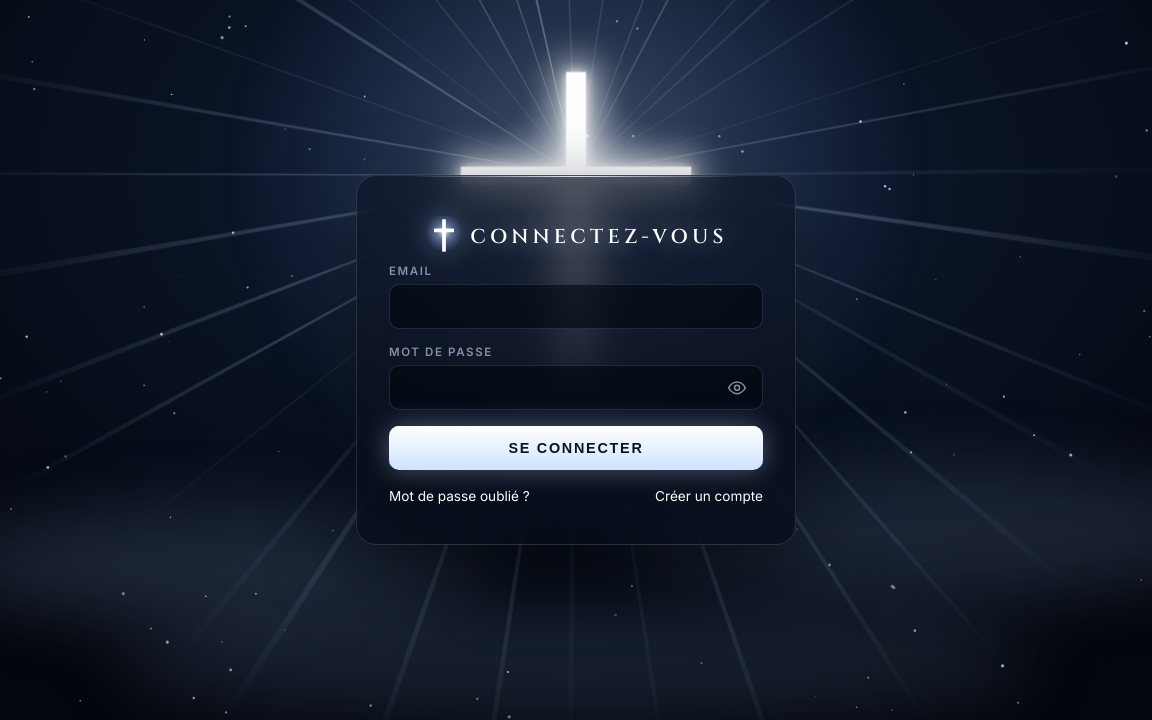
Test case: LogIn › affiche l’erreur et ne stocke rien
This screenshot has width=1152, height=720.
Type "alice@example.com" into the field labelled "Email". click: (576, 306)
box: [389, 284, 763, 329]
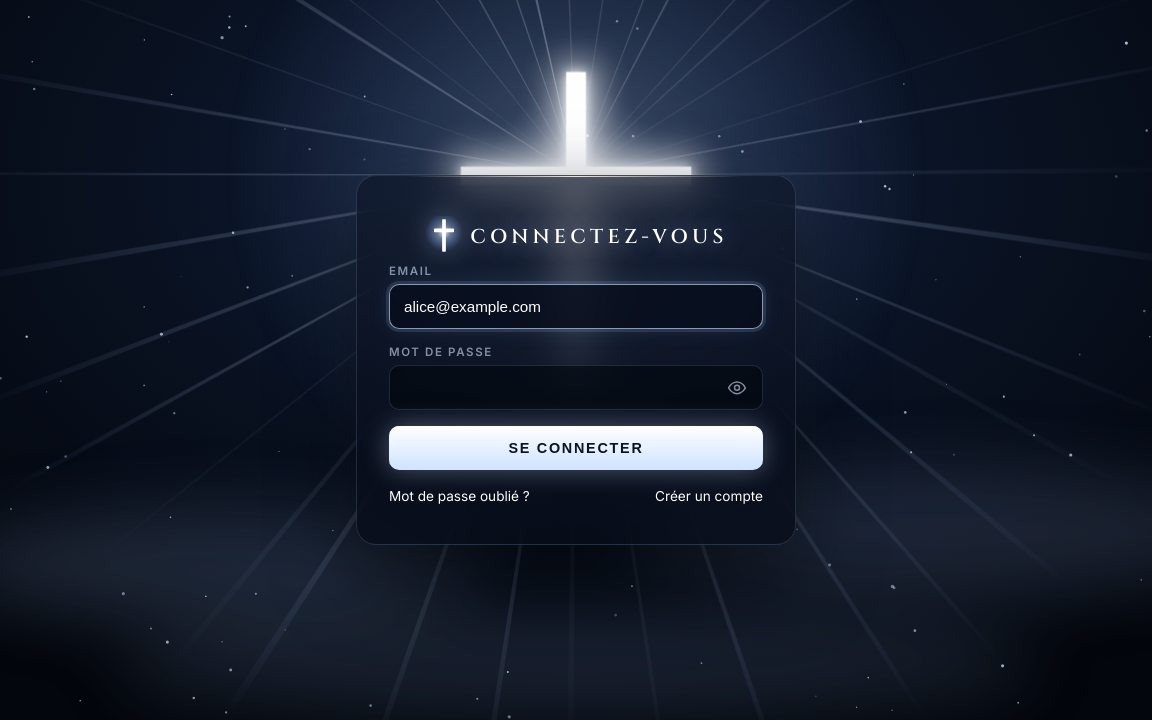
Type "MotDePasse123" into the password field labelled "Mot de passe". click: (576, 388)
box: [389, 365, 763, 410]
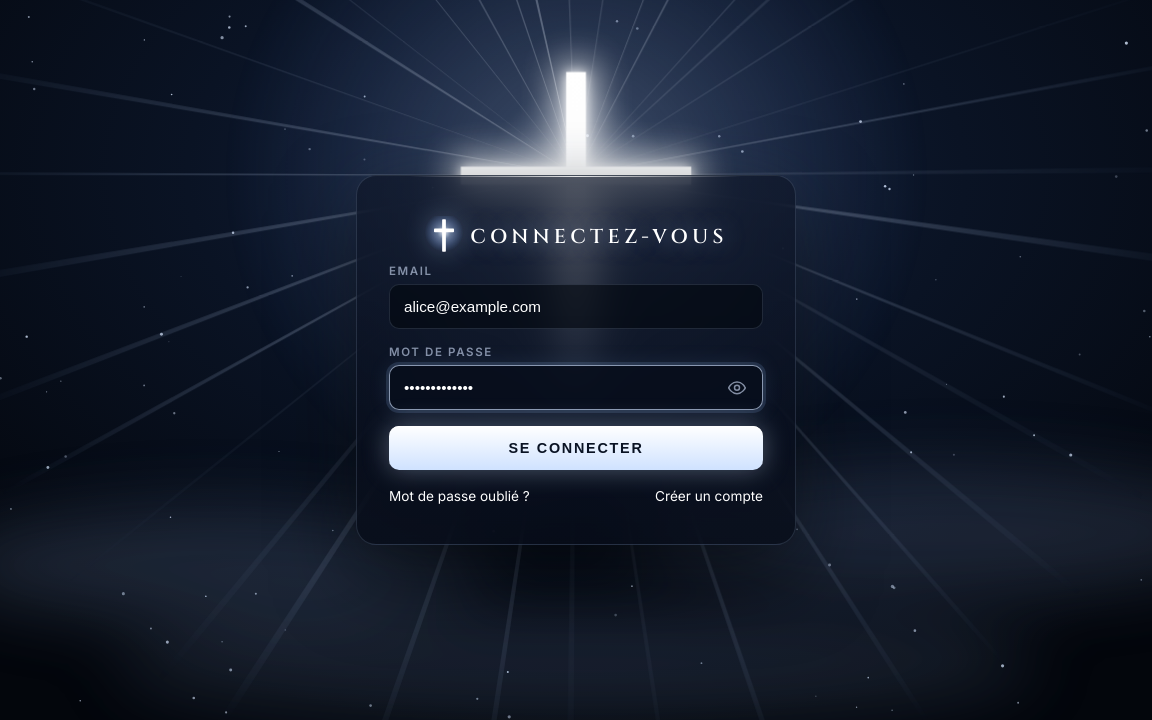
Click the button "Se connecter". click: click(576, 448)
box: [389, 426, 763, 470]
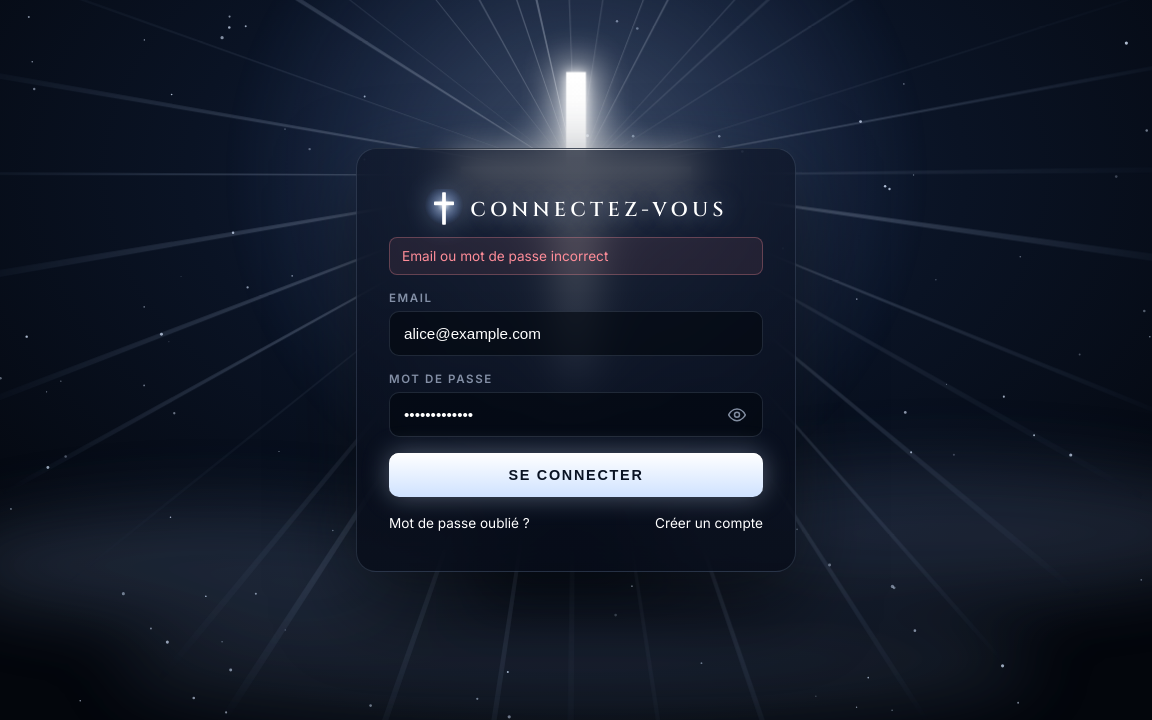
Check: the text "Email ou mot de passe incorrect" is shown, box [389, 237, 763, 275]
